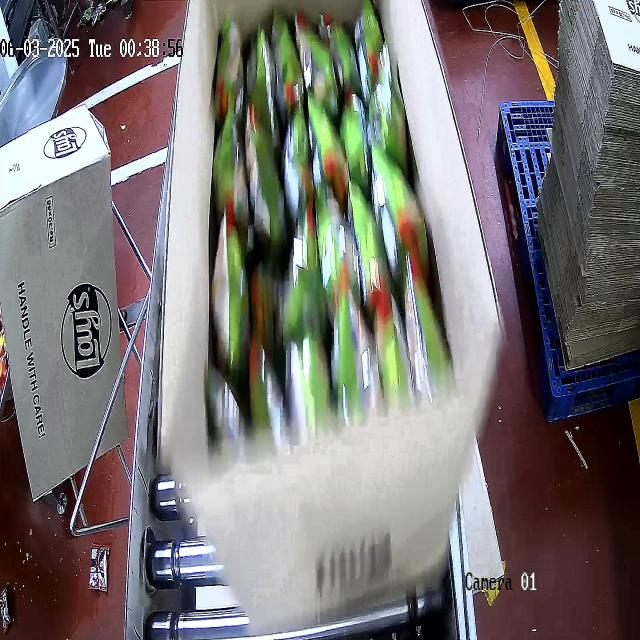YOGURT_HERB: (204, 0, 451, 424)
